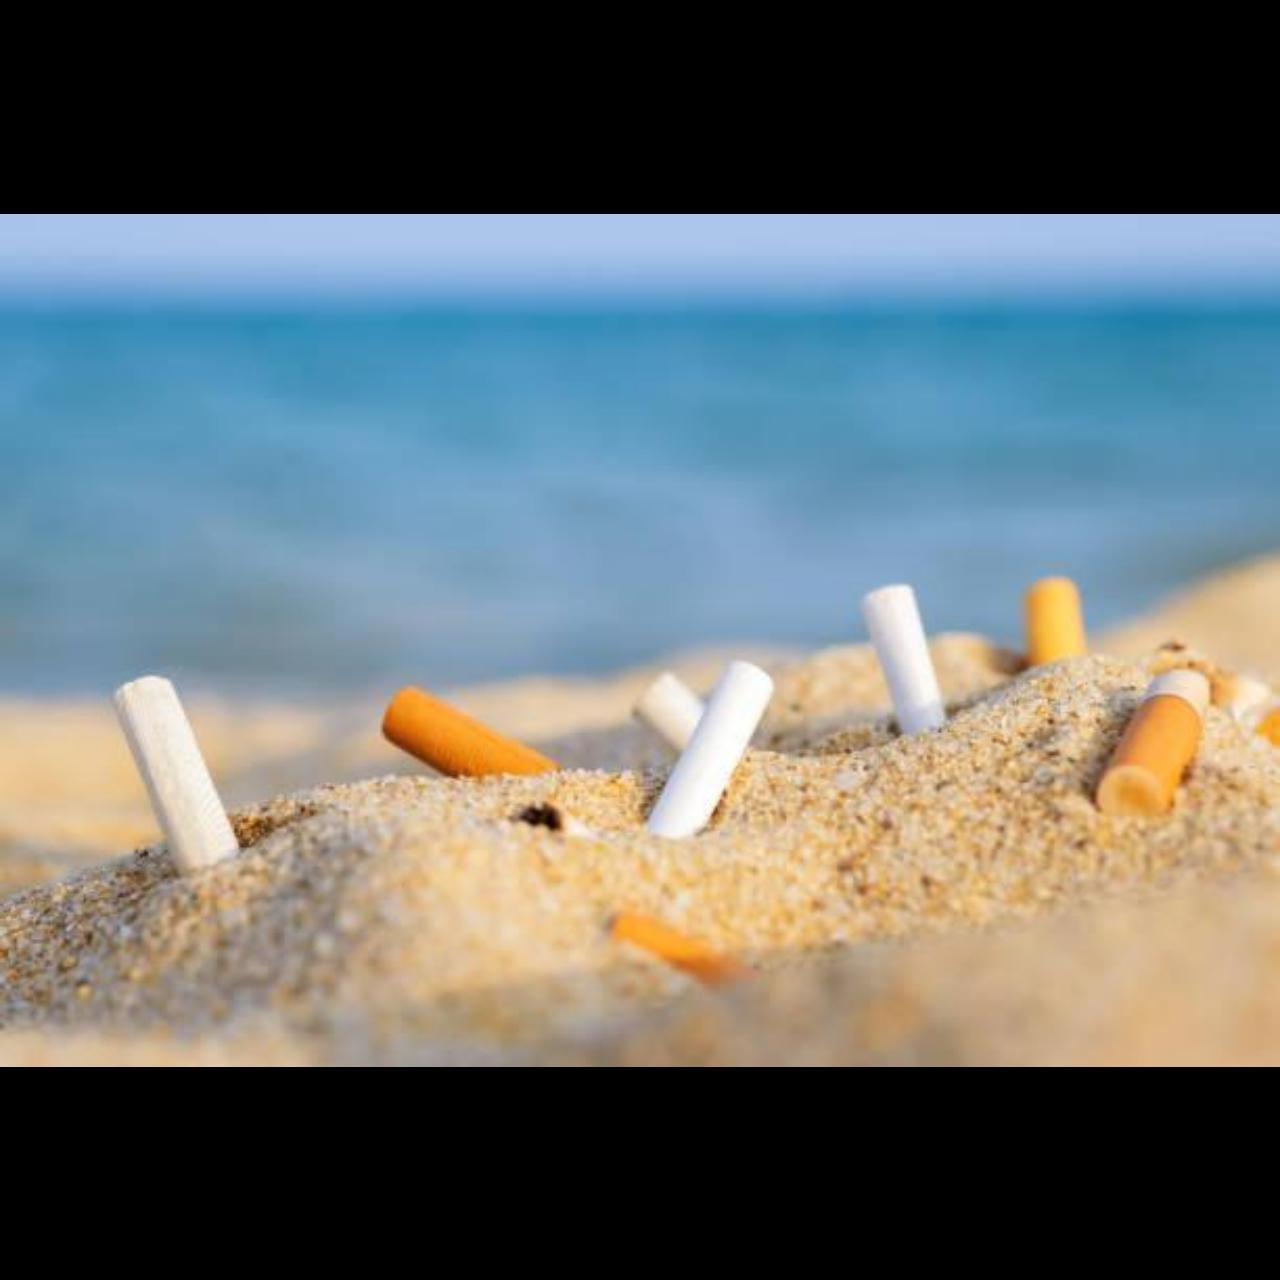cigarettes_butts: (113, 675, 241, 878), (646, 663, 777, 838), (1094, 669, 1209, 815), (383, 686, 563, 778), (1152, 640, 1280, 751), (860, 583, 945, 734), (615, 912, 732, 989), (634, 673, 707, 753), (1023, 575, 1084, 666)
